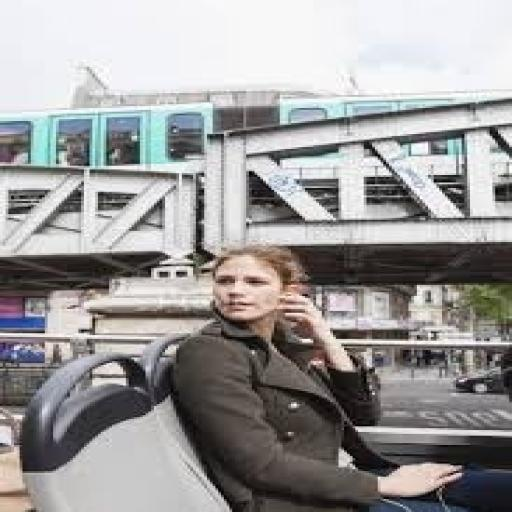sitting: (168, 242, 509, 510)
